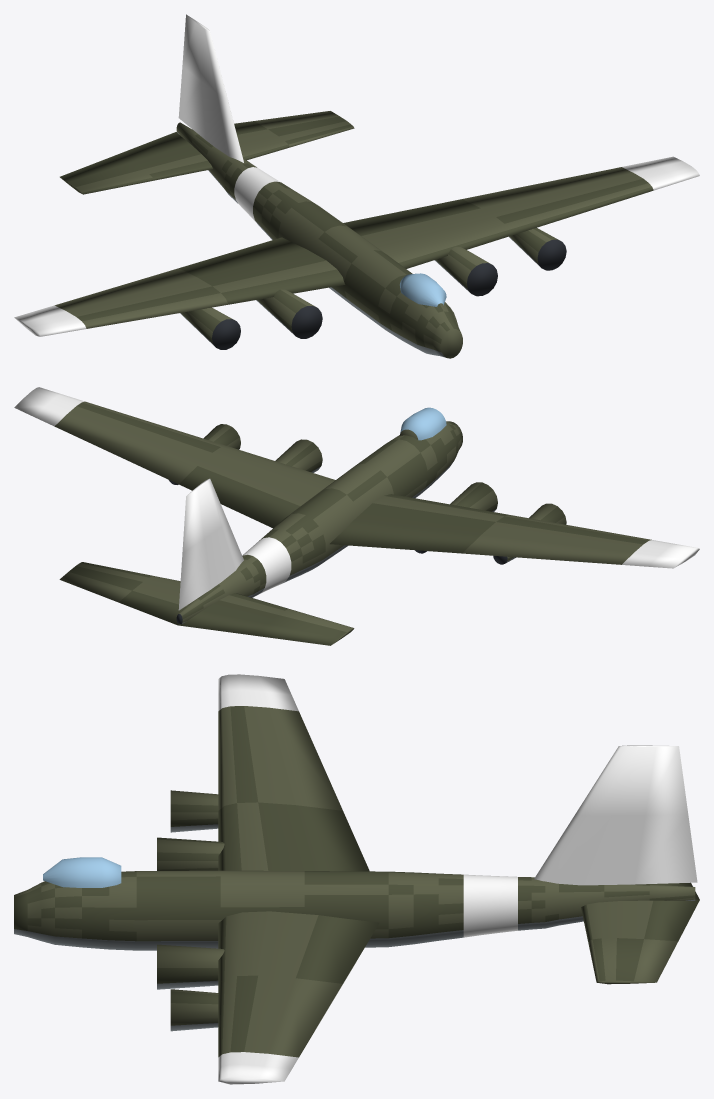
Rendered from bomber_ww2.glb.
3 views of the same model, one above another, from view 1: azimuth 30°, elevation 25°; view 2: azimuth 150°, elevation 25°; view 3: azimuth 270°, elevation 25° (orthographic). The views are drawn at different scales.
Visible parts, largest first — view 1: body; view 2: body; view 3: body.
Boxes of the visible parts, x1,y1,x2,y2 form: body: (14, 14, 699, 358); body: (14, 387, 699, 645); body: (14, 674, 699, 1084).
Size of the model in its own units: 31.6 by 7.37 by 22.76.
